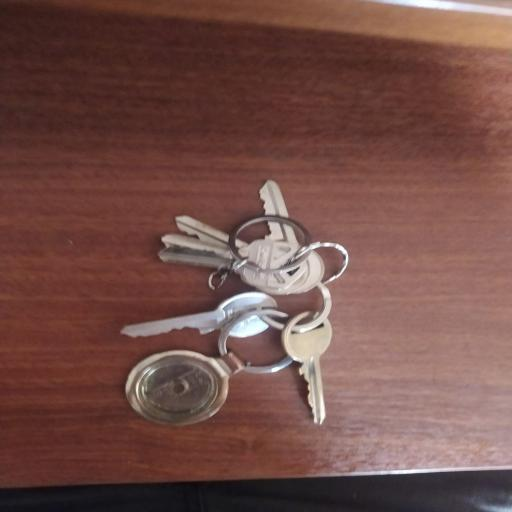Llaves: (109, 170, 359, 439)
